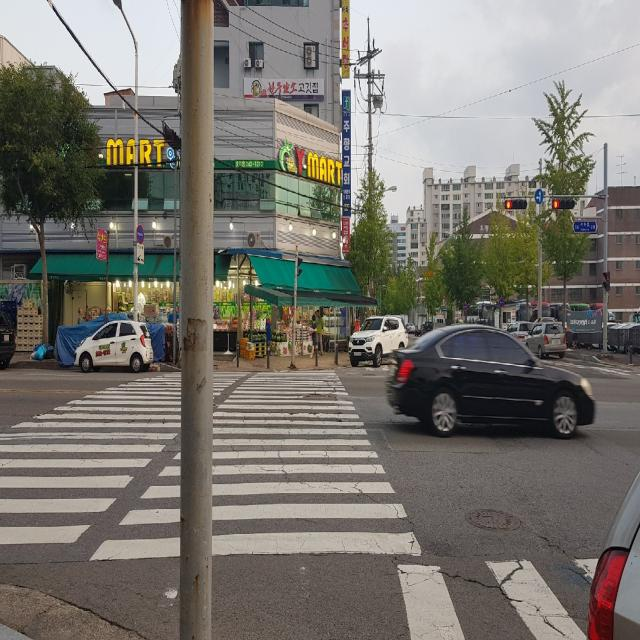횡단보도: (0, 369, 421, 607)
